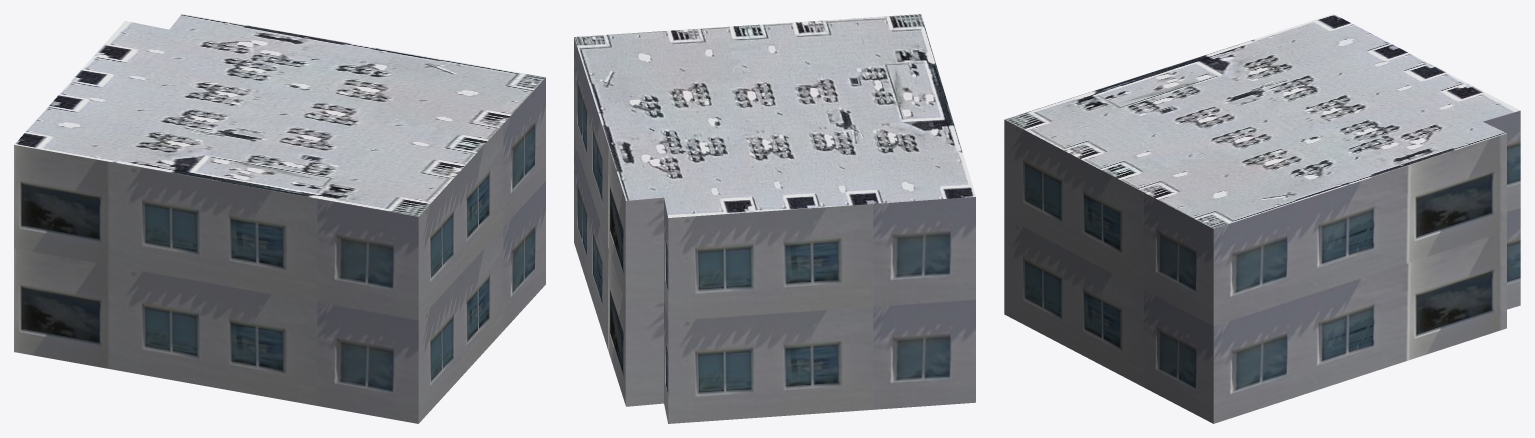
File: ResTex__1533.fbx
3 views of the same model, side by side, from view 1: azimuth 30°, elevation 25°; view 2: azimuth 150°, elevation 25°; view 3: azimuth 270°, elevation 25° (orthographic). The views are drawn at different scales.
Parts seen in each view (by area): view 1: CityEngineMaterial_10_m, CityEngineMaterial_m; view 2: CityEngineMaterial_10_m, CityEngineMaterial_m; view 3: CityEngineMaterial_10_m, CityEngineMaterial_m.
Part boxes in pixels (left/top/right/bottom): CityEngineMaterial_10_m: left=14, top=77, right=545, bottom=423; CityEngineMaterial_m: left=14, top=14, right=545, bottom=216; CityEngineMaterial_10_m: left=574, top=37, right=975, bottom=423; CityEngineMaterial_m: left=574, top=14, right=975, bottom=217; CityEngineMaterial_10_m: left=1004, top=110, right=1520, bottom=423; CityEngineMaterial_m: left=1005, top=14, right=1519, bottom=228.
Size of the model in its own units: 14.18 by 6 by 14.39.
Materials: 2 (2 with a texture image).
